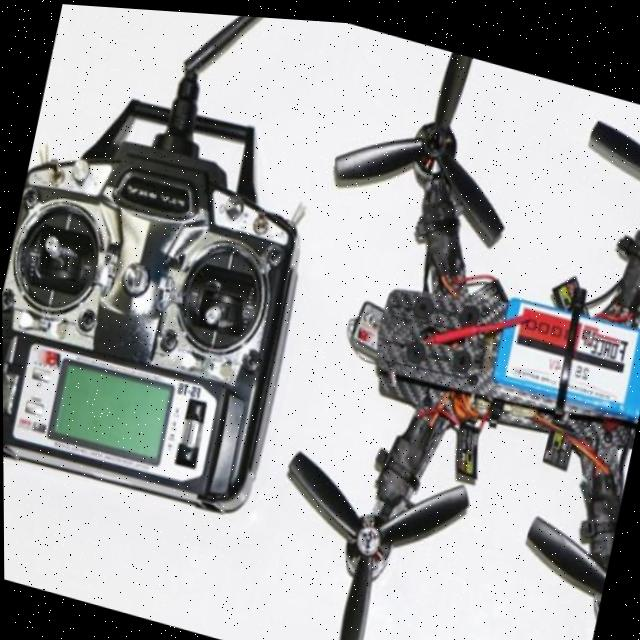drones: (231, 14, 640, 640)
